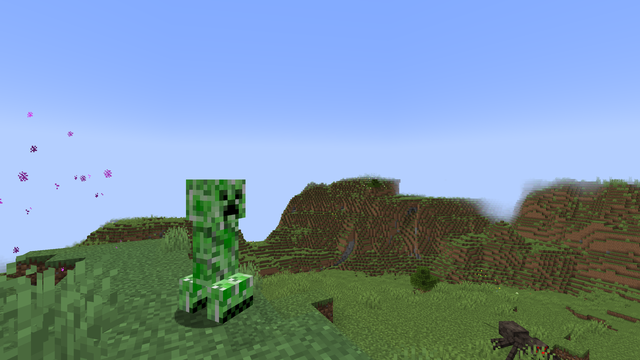araignees: (495, 318, 556, 358)
creepers: (189, 172, 246, 324)
